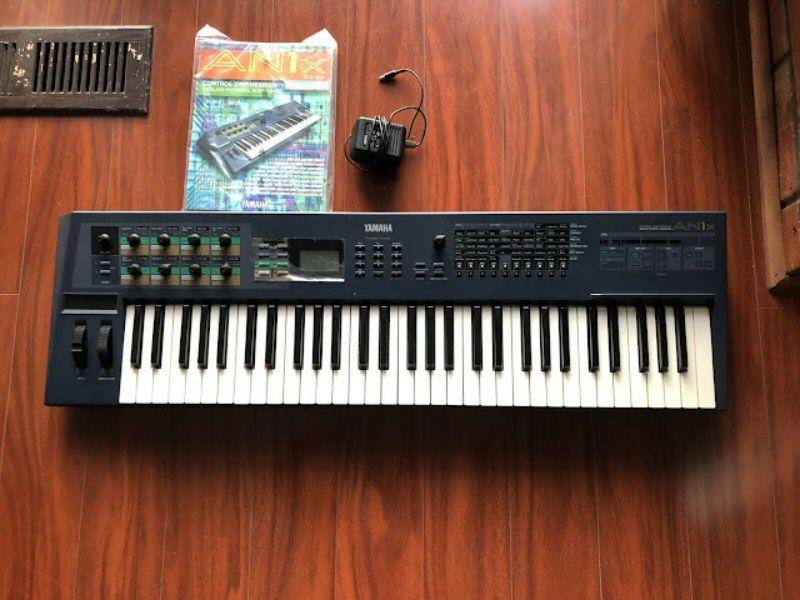synthesizer: (34, 198, 740, 430)
